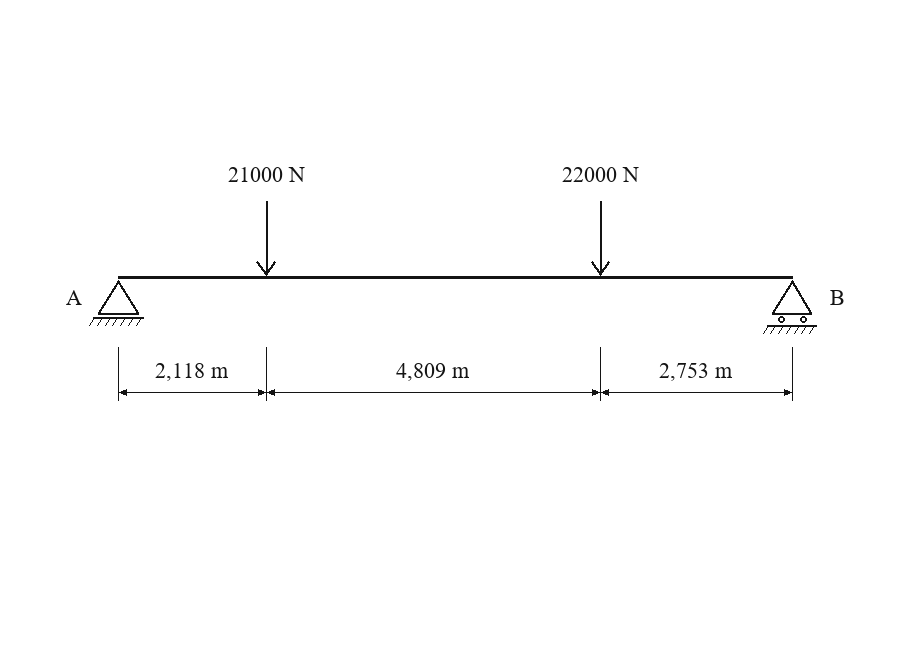pin_support: (89, 280, 144, 326)
point_load: (256, 201, 276, 276), (591, 201, 610, 276)
roller_support: (763, 280, 817, 334)
